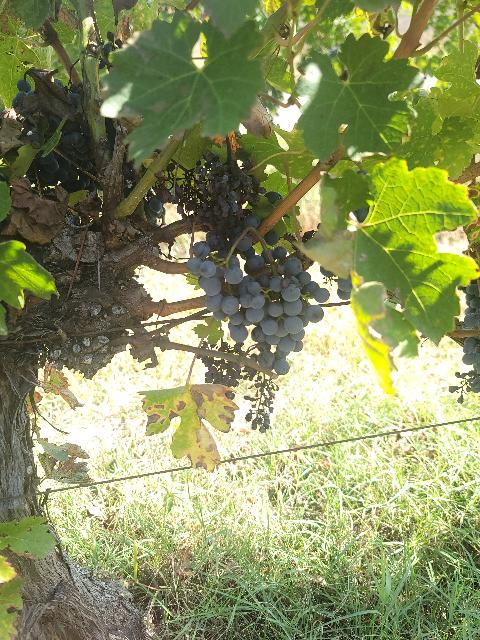grapes: (250, 258, 329, 375), (188, 231, 265, 344)
